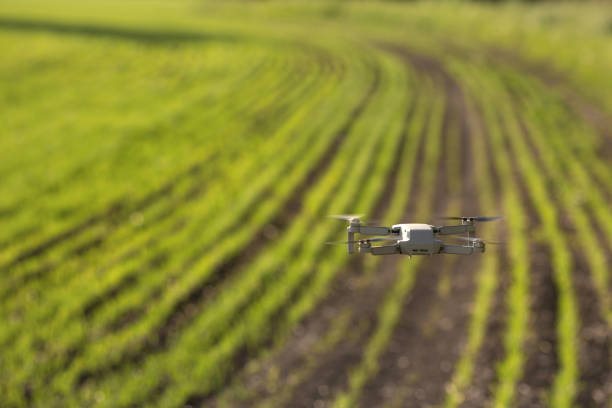Drone: (316, 210, 514, 264)
